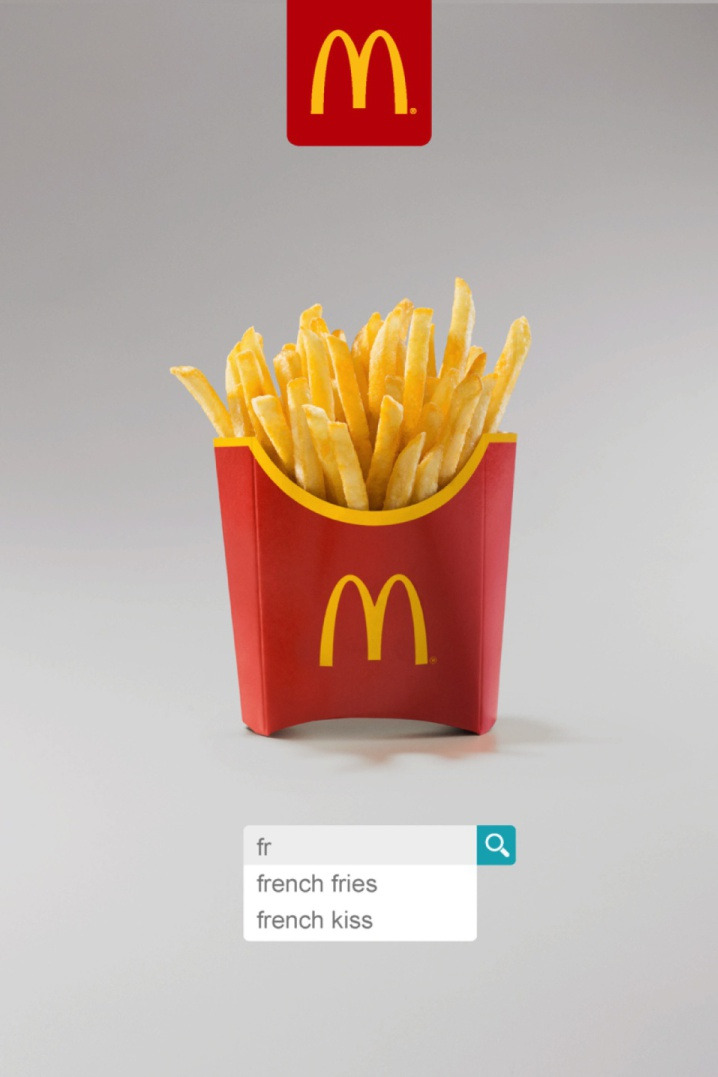mcdonalds: (302, 565, 434, 675)
